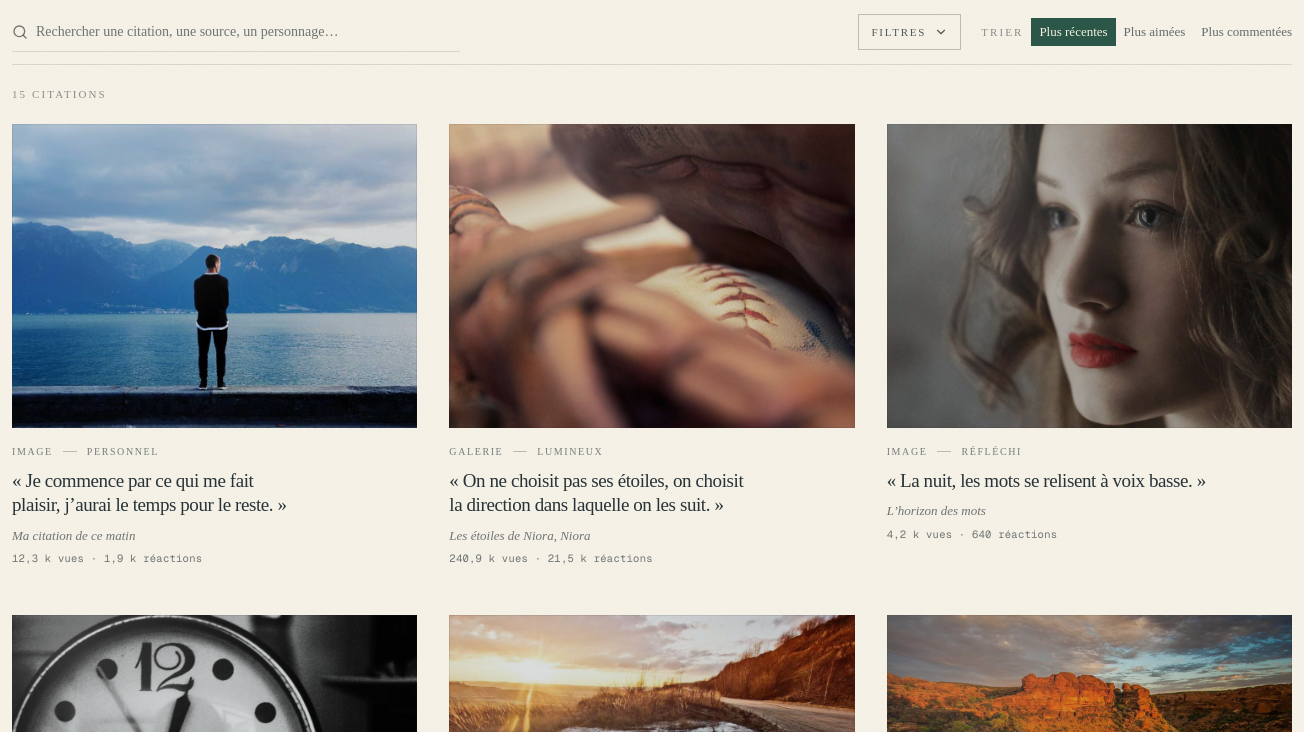
CatalogueBrowser › affiche un état vide quand rien ne correspond
Type "zzz-zzz-zzz" into the field labelled "Rechercher" at [236, 32], box [12,12,460,52]
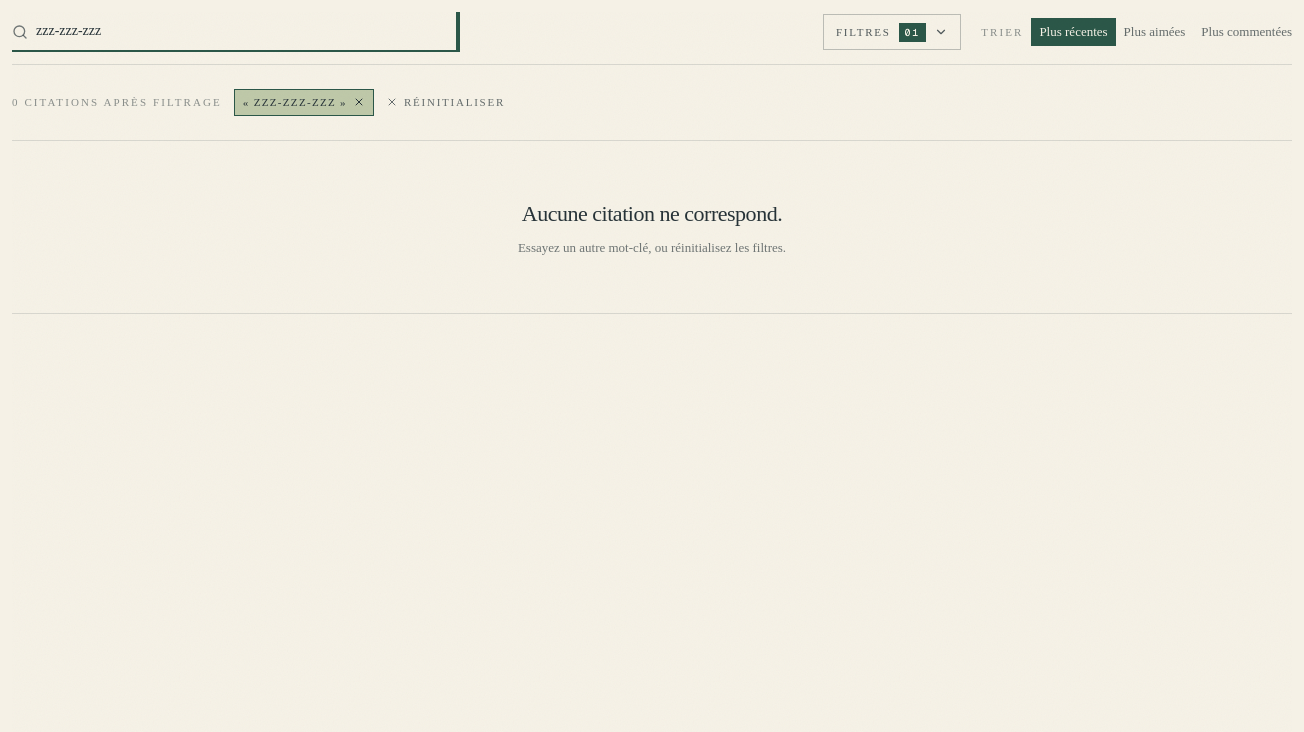
Result: the text "Aucune citation ne correspond." is shown at [522,200,782,226]
